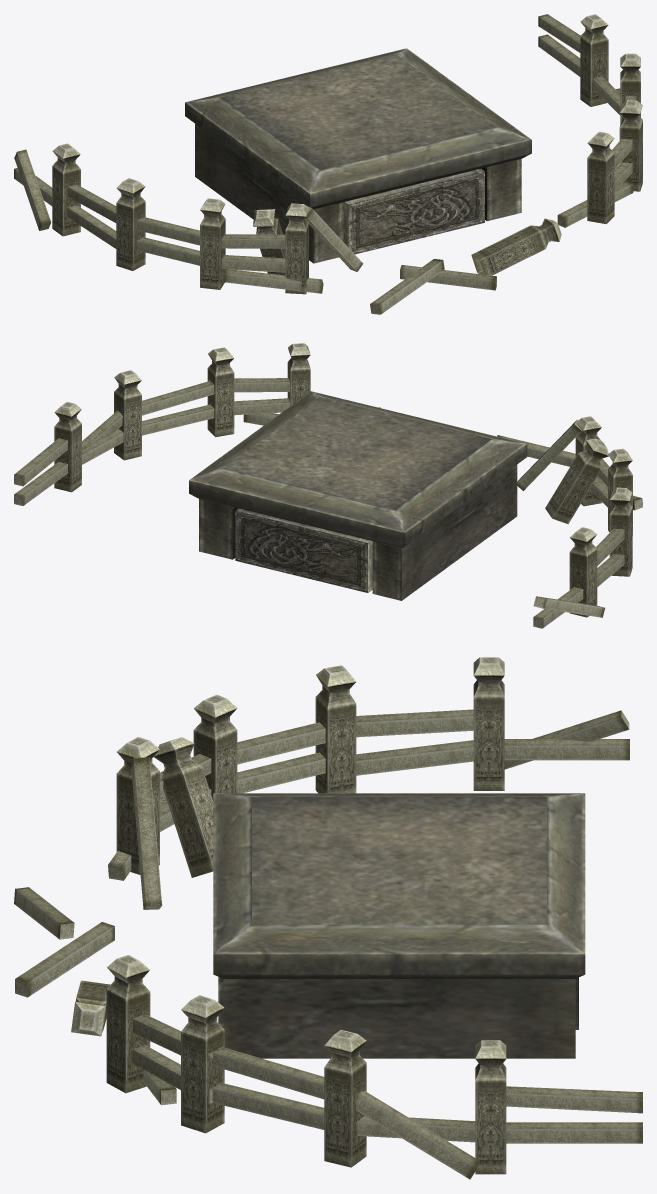
The model's file is 4st_table_001.fbx.
The picture shows the model from 3 angles, top to bottom: view 1: azimuth 30°, elevation 25°; view 2: azimuth 150°, elevation 25°; view 3: azimuth 270°, elevation 25°; orthographic projection. The views are drawn at different scales.
Parts seen in each view (by area): view 1: 2st_table_001; view 2: 2st_table_001; view 3: 2st_table_001.
Boxes of the visible parts, box(x1,y1,x2,y2) form: 2st_table_001: box(14, 14, 642, 314); 2st_table_001: box(14, 343, 642, 628); 2st_table_001: box(14, 657, 642, 1179).
Size of the model in its own units: 12.73 by 2.14 by 8.14.
